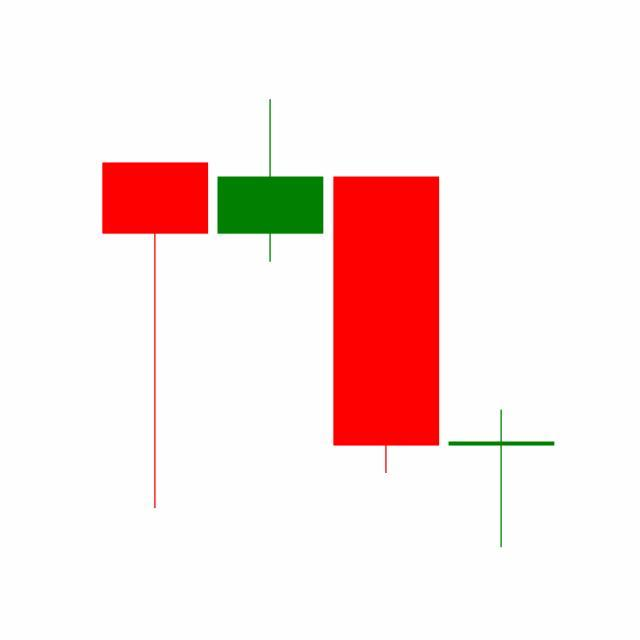Spinning Top: (444, 408, 560, 550)
